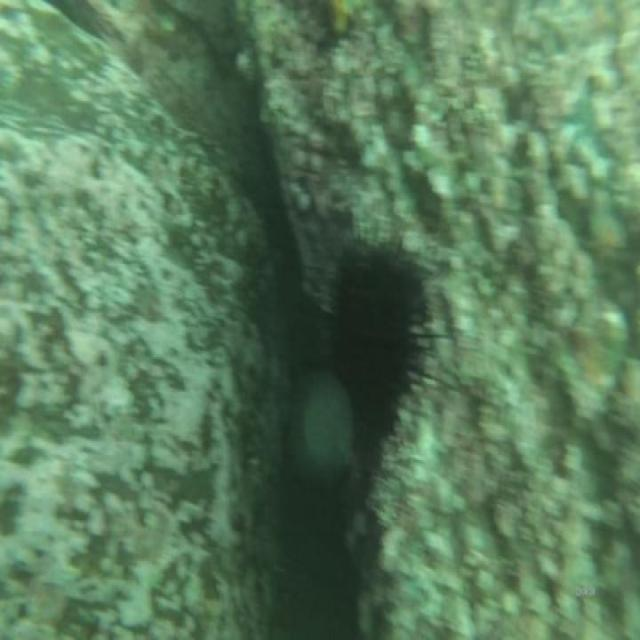echinus: (328, 235, 426, 446)
